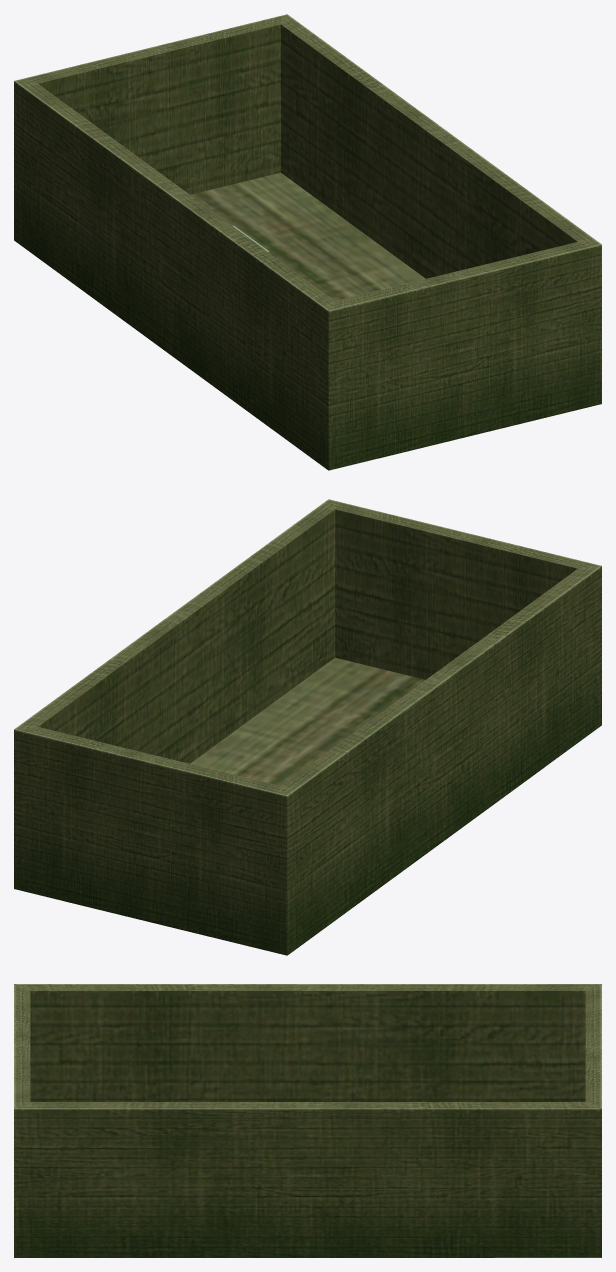
Rendered from bath_tub.fbx.
3 renders of one model, top to bottom at view 1: azimuth 30°, elevation 25°; view 2: azimuth 150°, elevation 25°; view 3: azimuth 270°, elevation 25°, orthographic. The views are drawn at different scales.
Parts seen in each view (by area): view 1: mesh_0; view 2: mesh_0; view 3: mesh_0.
Boxes of the visible parts, x1,y1,x2,y2 form: mesh_0: [14, 14, 601, 470]; mesh_0: [14, 499, 601, 955]; mesh_0: [14, 984, 601, 1257].
Bounding box in the file's own units: 89.68 × 50 × 179.
Materials: 1 (1 with a texture image).
